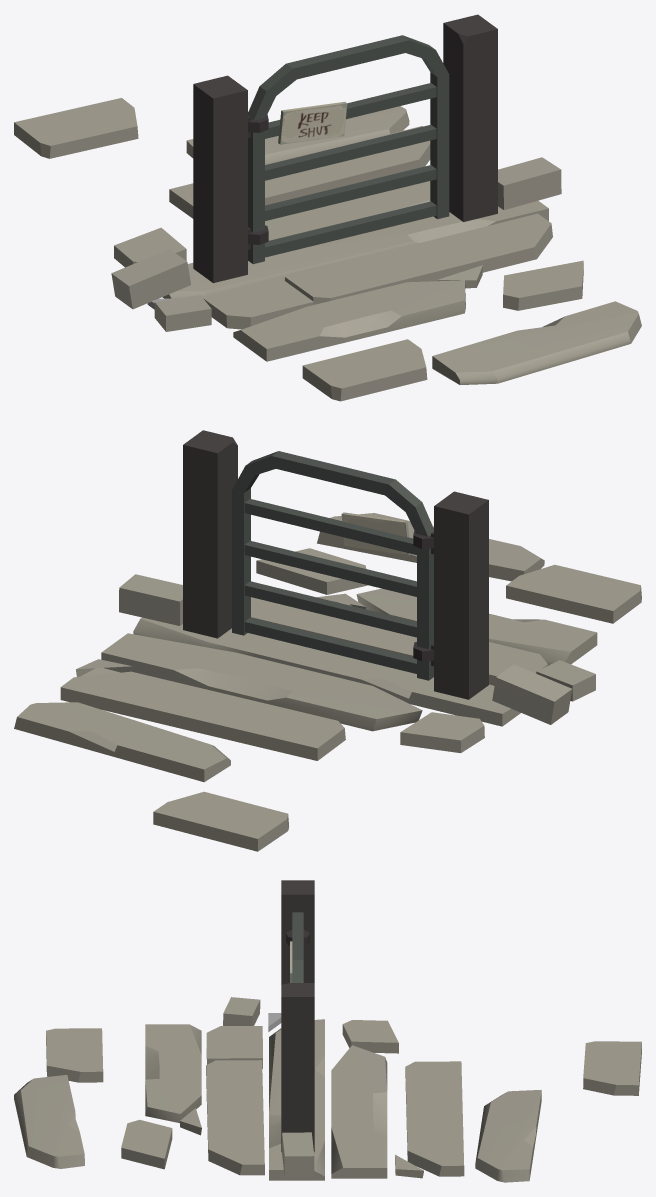
The model's file is gate_idle.fbx.
3 views of the same model, one above another, from view 1: azimuth 30°, elevation 25°; view 2: azimuth 150°, elevation 25°; view 3: azimuth 270°, elevation 25° (orthographic). The views are drawn at different scales.
Parts seen in each view (by area): view 1: gate_set, gate_door_idle; view 2: gate_set, gate_door_idle; view 3: gate_set, gate_door_idle.
Boxes of the visible parts, x1,y1,x2,y2 form: gate_set: [14, 14, 641, 401]; gate_door_idle: [248, 35, 449, 264]; gate_set: [14, 430, 641, 851]; gate_door_idle: [232, 451, 433, 680]; gate_set: [14, 880, 641, 1182]; gate_door_idle: [286, 912, 309, 982].
Size of the model in its own units: 343 by 154 by 511.
